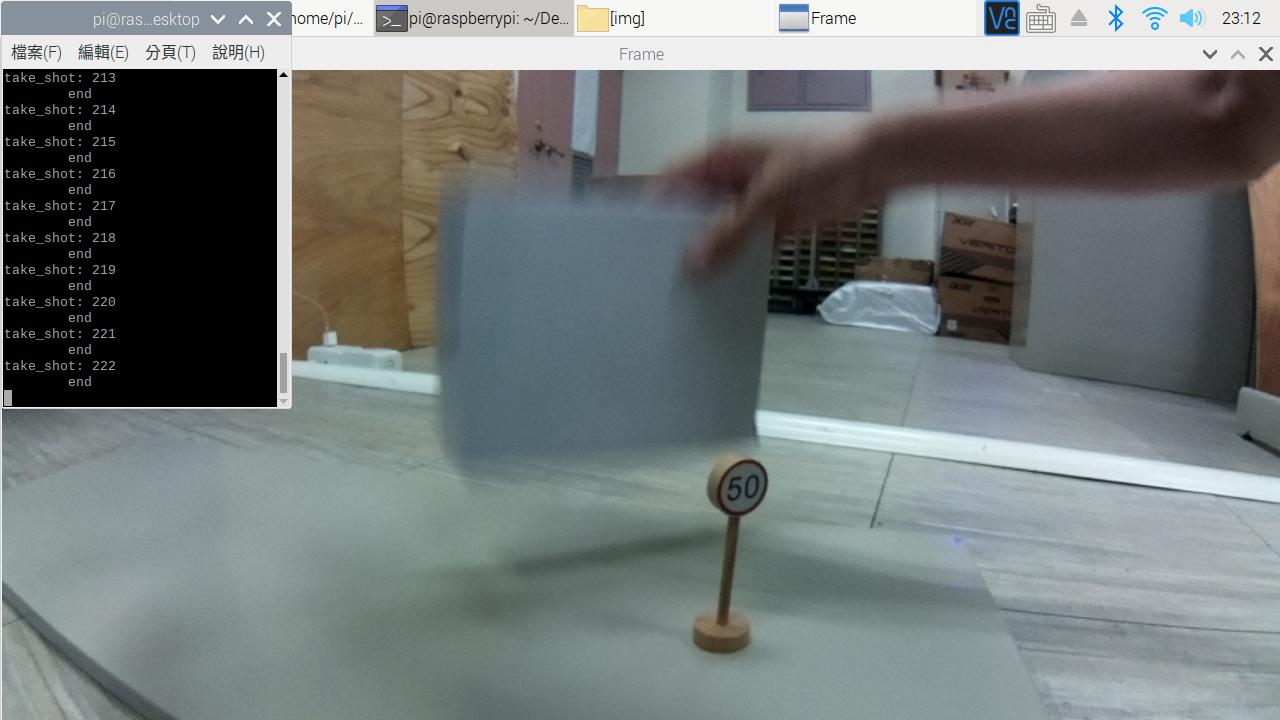Speed50: (701, 456, 791, 527)
